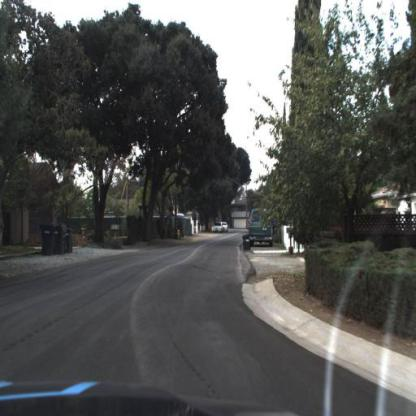car: (248, 204, 273, 250), (248, 208, 276, 247), (210, 220, 224, 234)
